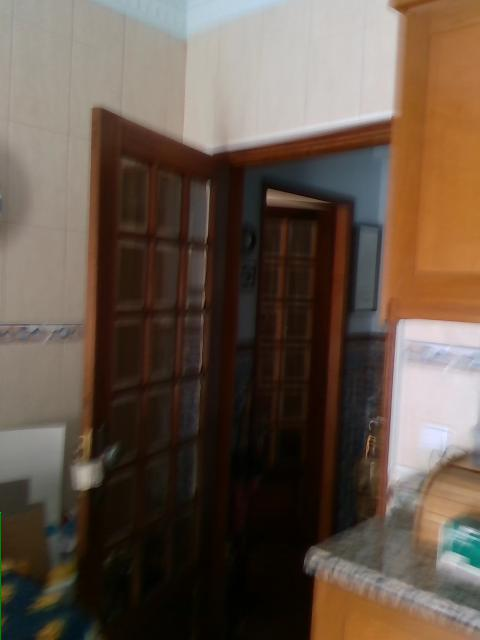door: (64, 103, 240, 638), (263, 205, 333, 598)
